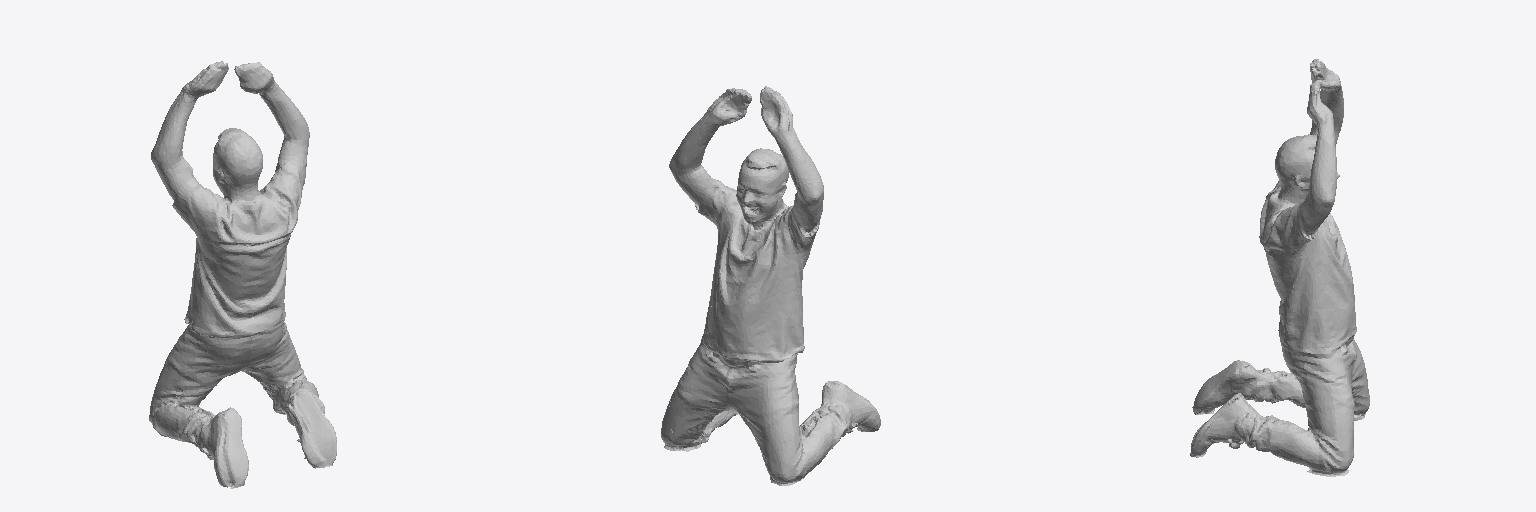
File: riot5.obj
3 renders of one model, left to right at view 1: azimuth 30°, elevation 25°; view 2: azimuth 150°, elevation 25°; view 3: azimuth 270°, elevation 25°, orthographic.
Visible parts, largest first — view 1: riot5; view 2: riot5; view 3: riot5.
Part boxes in pixels (x1,y1,x2,y2): riot5: (149,61,336,488); riot5: (661,86,880,485); riot5: (1190,59,1369,476).
Size of the model in its own units: 0.6682 by 1.51 by 0.6665.